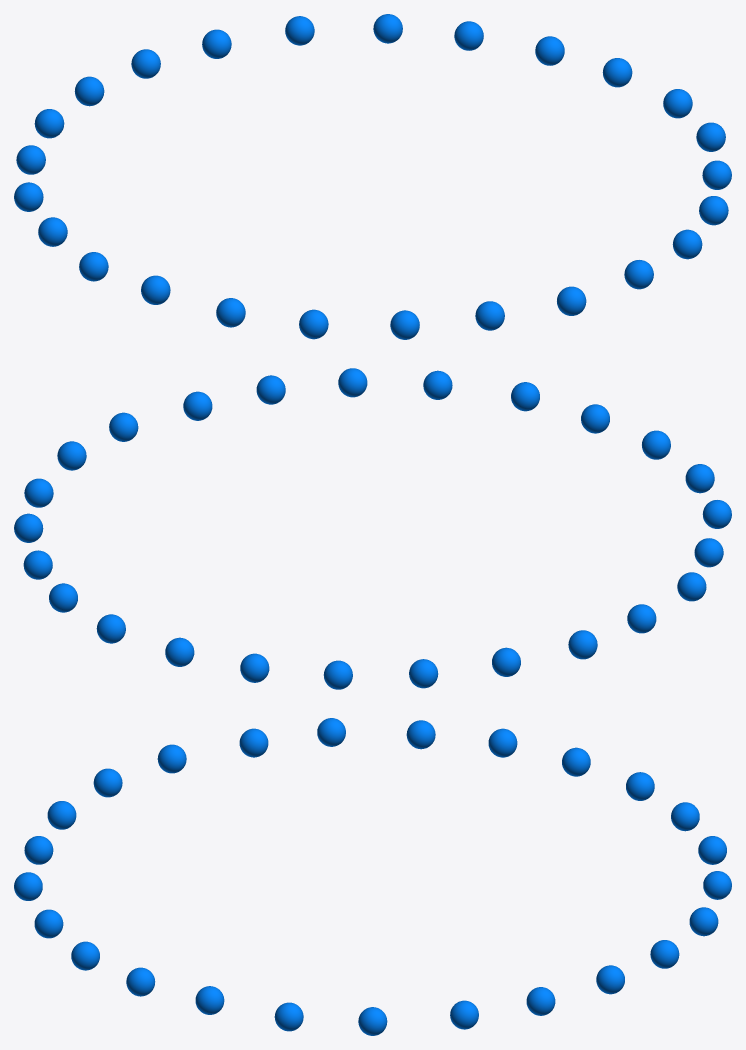
3 views of the same model, one above another, from view 1: azimuth 30°, elevation 25°; view 2: azimuth 150°, elevation 25°; view 3: azimuth 270°, elevation 25° (orthographic). The views are drawn at different scales.
Visible parts, largest first — view 1: Sphere052; view 2: Sphere052; view 3: Sphere052.
Part boxes in pixels (bbox=[...]): Sphere052: bbox=[14, 14, 731, 339]; Sphere052: bbox=[14, 368, 731, 689]; Sphere052: bbox=[14, 718, 731, 1035].
Size of the model in its own units: 202 by 8.22 by 204.
